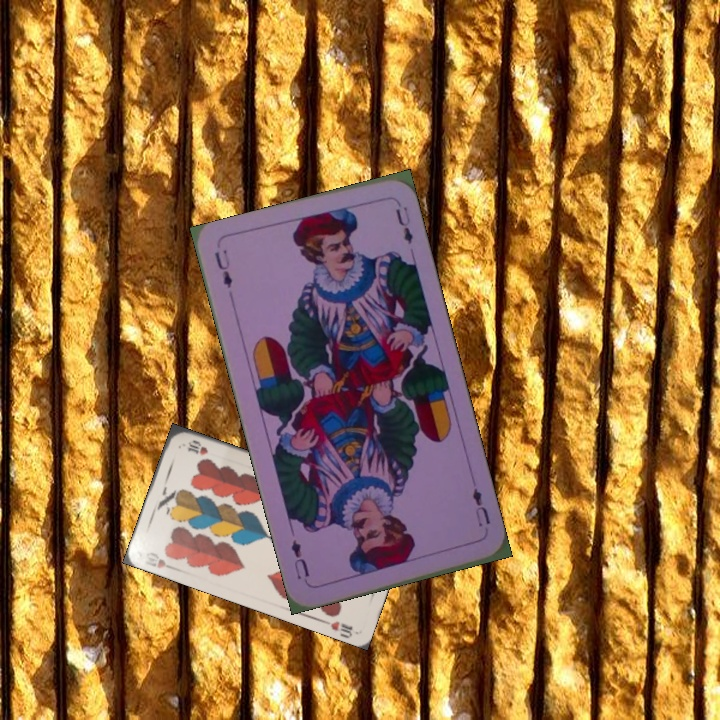EU: (468, 483, 493, 529), (210, 245, 235, 291)
H10: (141, 548, 179, 573)
